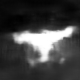plane: (10, 24, 79, 67)
